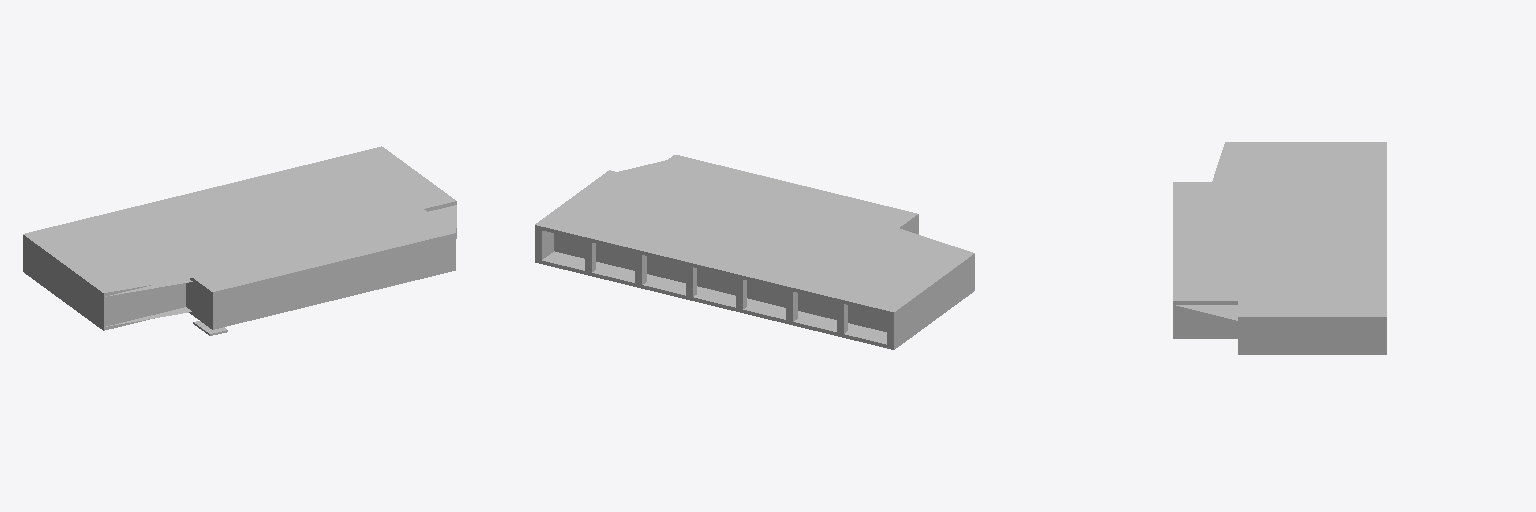
File: 3dMap_cafe_ceiling.obj
3 renders of one model, left to right at view 1: azimuth 30°, elevation 25°; view 2: azimuth 150°, elevation 25°; view 3: azimuth 270°, elevation 25°, orthographic.
Parts seen in each view (by area): view 1: ceiling_C_立方体.203, wall_C_3F_立方体.168, floor_C_3F_立方体.113; view 2: ceiling_C_立方体.203, wall_C_3F_立方体.168, floor_C_3F_立方体.113, pillar_C_3F_立方体.123; view 3: ceiling_C_立方体.203, wall_C_3F_立方体.168, floor_C_3F_立方体.113.
Boxes of the visible parts, box(x1,y1,x2,y2) form: ceiling_C_立方体.203: box(23, 146, 456, 296); wall_C_3F_立方体.168: box(27, 205, 456, 326); floor_C_3F_立方体.113: box(23, 235, 456, 330); ceiling_C_立方体.203: box(535, 155, 974, 315); wall_C_3F_立方体.168: box(546, 160, 974, 342); floor_C_3F_立方体.113: box(535, 251, 974, 349); pillar_C_3F_立方体.123: box(535, 229, 897, 345); ceiling_C_立方体.203: box(1173, 142, 1386, 320); wall_C_3F_立方体.168: box(1173, 305, 1378, 350); floor_C_3F_立方体.113: box(1173, 335, 1386, 354).
Size of the model in its own units: 37.5 by 5.29 by 19.38.